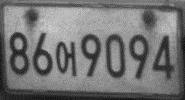0: (105, 33, 126, 78)
4: (152, 34, 175, 81)
6: (32, 32, 52, 75)
8: (8, 30, 29, 75)
9: (80, 33, 102, 77), (128, 34, 149, 79)
어: (54, 40, 77, 77)
